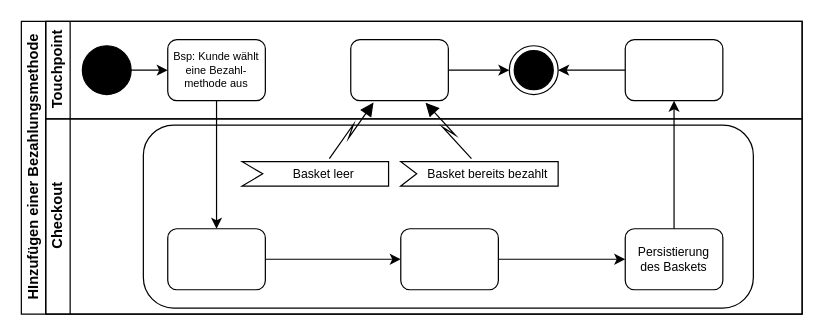
The diagram is 822 pixels wide and 334 high, and some of its shapes have lost their labels. Here are the shapes that lost their labels. From the top down, the centre of each, then its label:
the point at 399,69: Verarbeitung des Fehlercodes
the point at 673,69: Anzeigen der aktualiserten Bezahlmethoden
the point at 216,259: Hinzufügen der Bezahl- methode
the point at 449,259: Neuberechnung aller Bezahl- methoden
